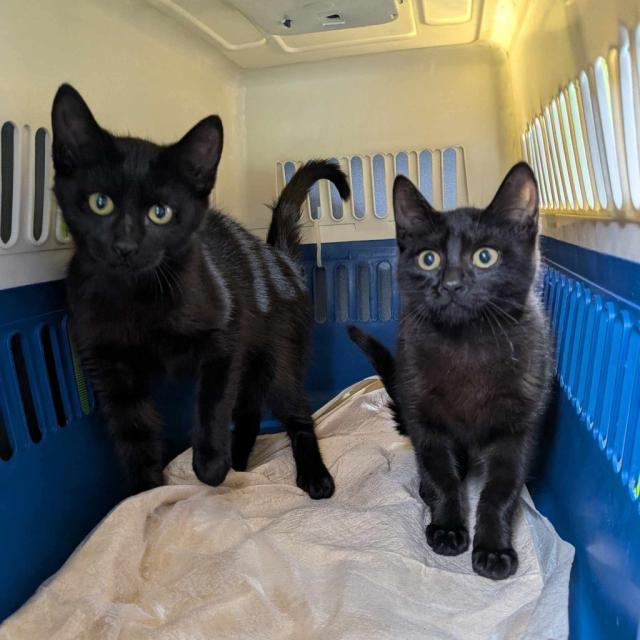bombay_cat: (46, 78, 228, 290), (384, 155, 549, 338)
